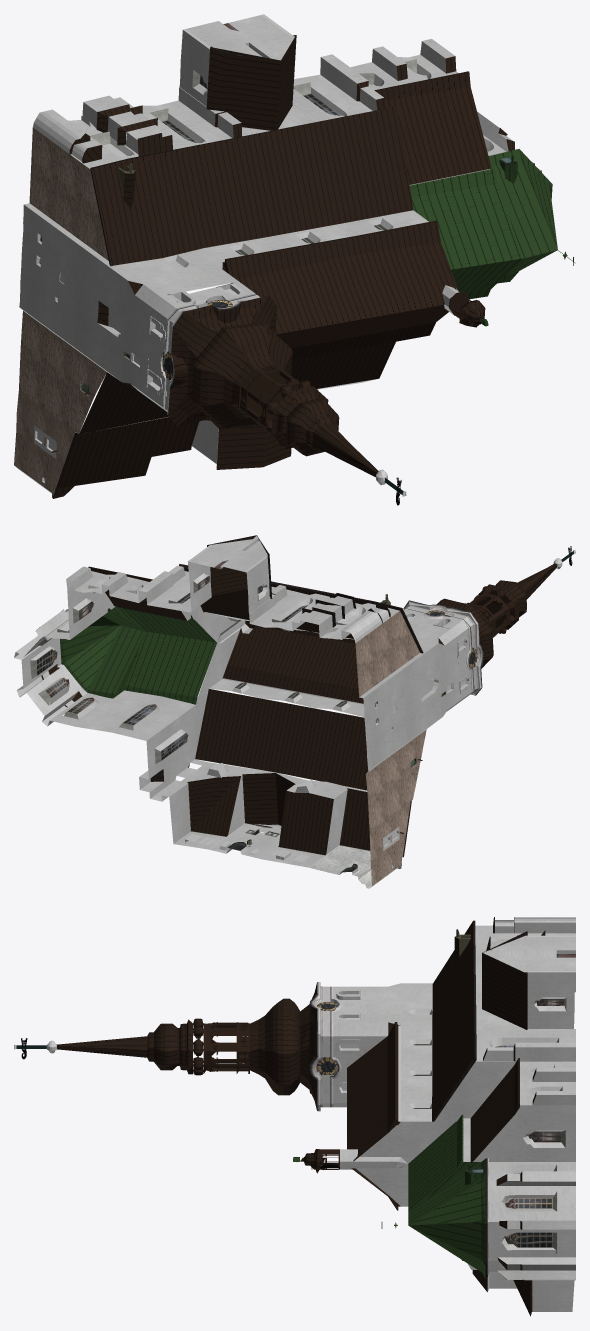
Rendered from Toom-Kooli_6-origo.obj.
The picture shows the model from 3 angles, top to bottom: view 1: azimuth 30°, elevation 25°; view 2: azimuth 150°, elevation 25°; view 3: azimuth 270°, elevation 25°; orthographic projection. The views are drawn at different scales.
Visible parts, largest first — view 1: Toom_kirik; view 2: Toom_kirik; view 3: Toom_kirik.
Boxes of the visible parts, x1=… form: Toom_kirik: x1=14, y1=14, x2=575, y2=505; Toom_kirik: x1=14, y1=535, x2=575, y2=888; Toom_kirik: x1=14, y1=917, x2=575, y2=1316.
Size of the model in its own units: 59.44 by 47 by 70.07.
